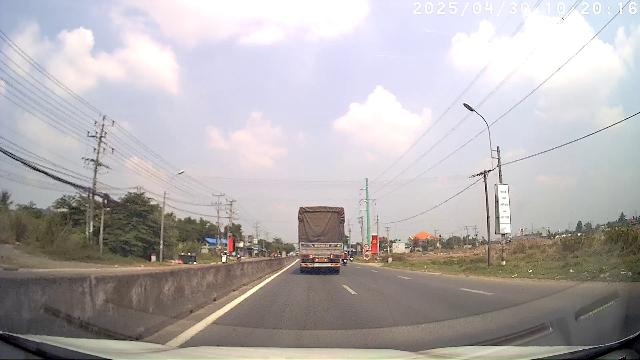124b-cam-oto-quay-dau-xe: (364, 244, 370, 250)
